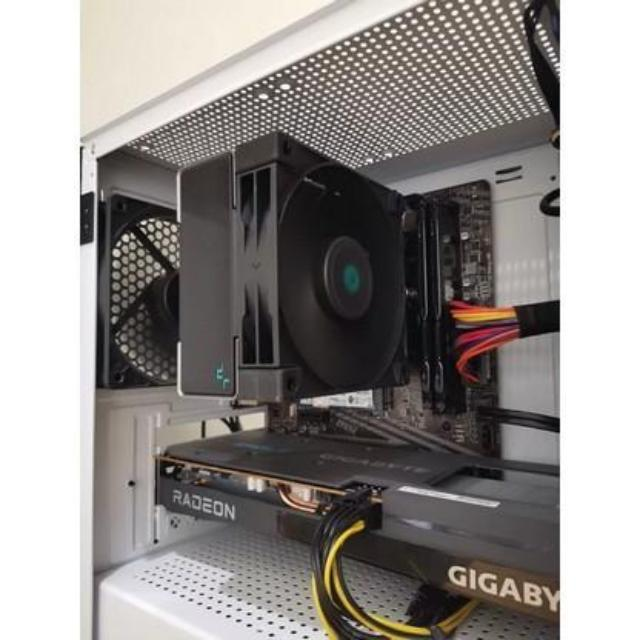CPU_Fan: (184, 133, 410, 415)
GPU: (156, 426, 561, 620)
